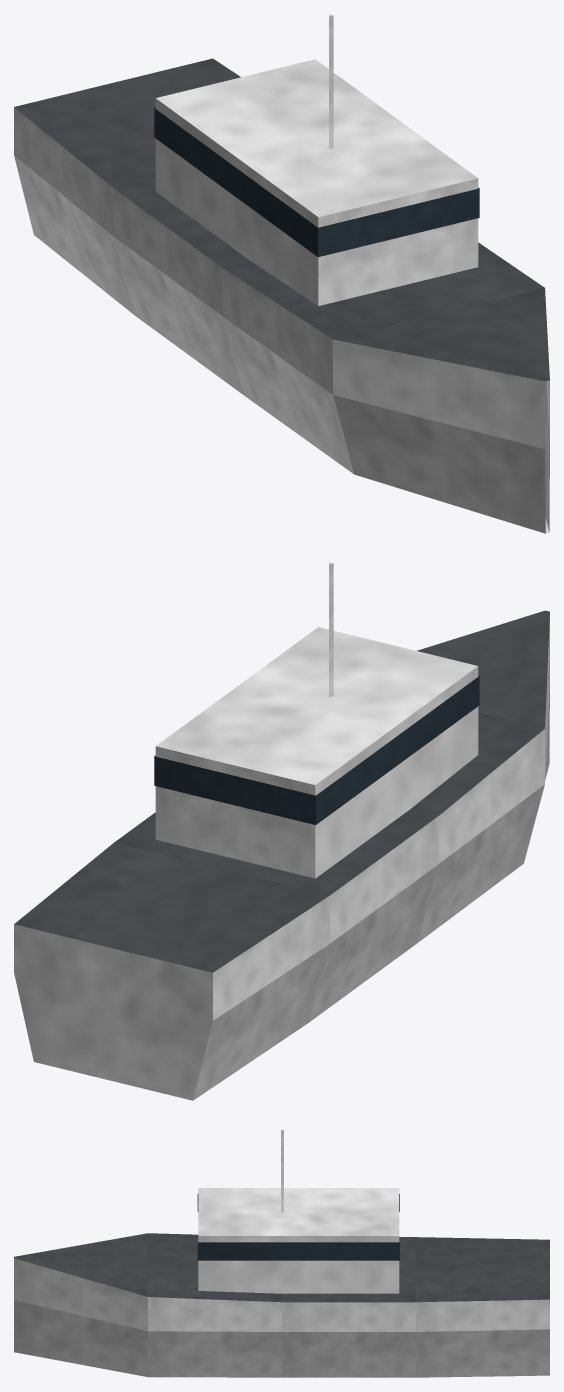
The model's file is SM_MoloItalia_Motovedetta_v2_LOD2.fbx.
3 renders of one model, top to bottom at view 1: azimuth 30°, elevation 25°; view 2: azimuth 150°, elevation 25°; view 3: azimuth 270°, elevation 25°, orthographic. The views are drawn at different scales.
Parts seen in each view (by area): view 1: SM_MoloItalia_Motovedetta_v2_LOD2; view 2: SM_MoloItalia_Motovedetta_v2_LOD2; view 3: SM_MoloItalia_Motovedetta_v2_LOD2.
Part boxes in pixels (box(x1,y1,x2,y2)): SM_MoloItalia_Motovedetta_v2_LOD2: box(14, 14, 549, 533); SM_MoloItalia_Motovedetta_v2_LOD2: box(14, 562, 549, 1100); SM_MoloItalia_Motovedetta_v2_LOD2: box(14, 1129, 549, 1377).
Size of the model in its own units: 460 by 1600 by 730.
1 material, 1 textured.
